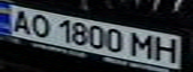0: (106, 26, 130, 54), (87, 24, 106, 51)
1: (51, 17, 75, 43)
8: (69, 20, 90, 47)
A: (3, 7, 36, 34)
H: (151, 35, 181, 63)
M: (127, 30, 160, 60)
O: (24, 11, 54, 38)
